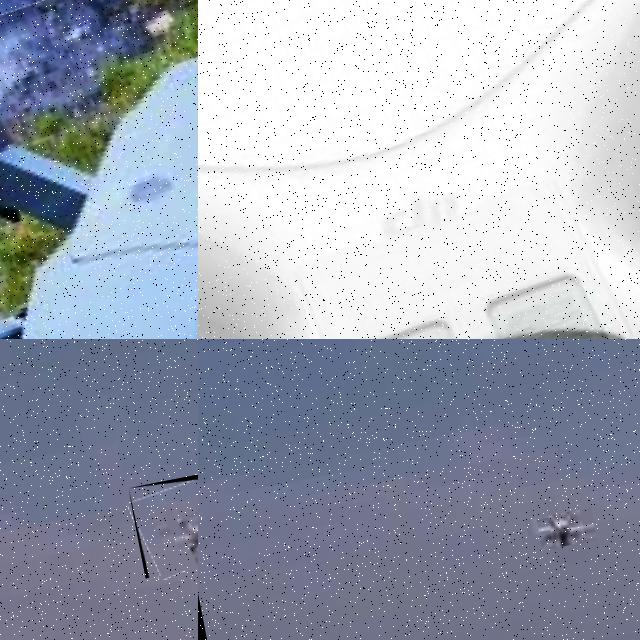drone: (198, 0, 640, 339), (0, 0, 198, 339), (128, 467, 198, 578)
